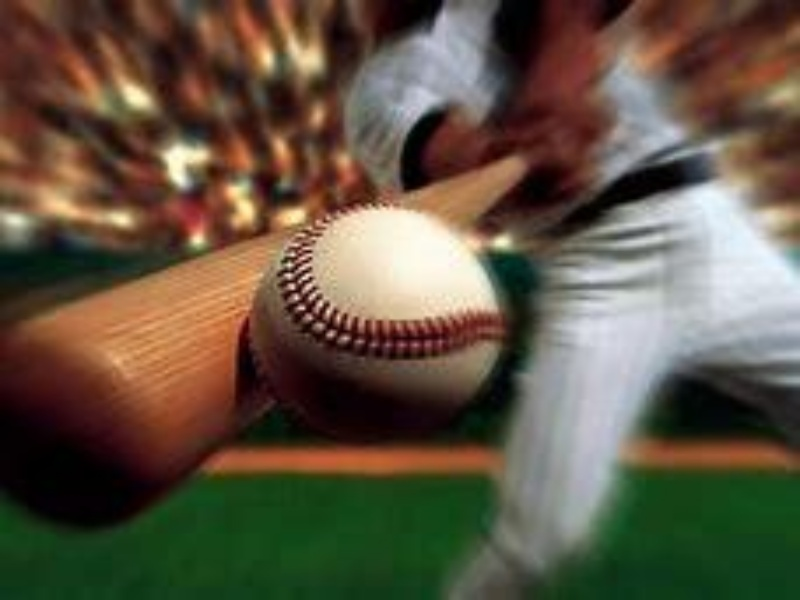baseball: (248, 198, 500, 421)
